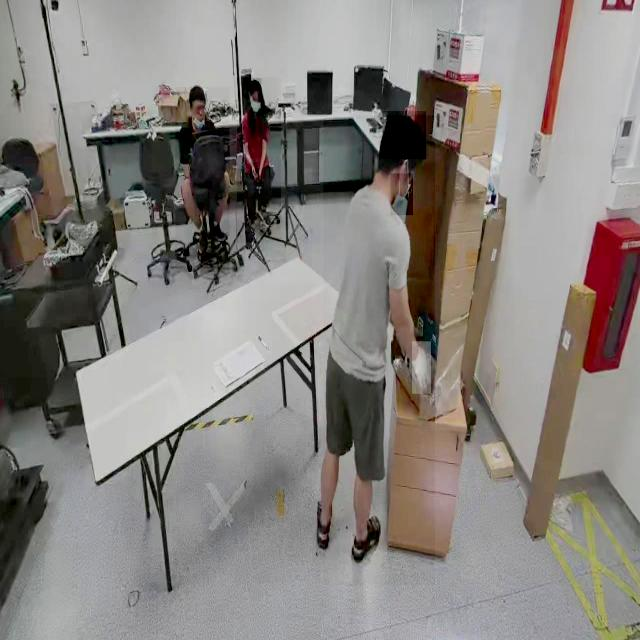face_mask: (391, 173, 413, 215), (247, 92, 265, 111)
hand_glove: (412, 341, 432, 395)
hand_noglove: (250, 162, 258, 178), (257, 168, 261, 181)
head_nohelmet: (379, 111, 427, 160), (189, 84, 205, 100), (247, 78, 262, 92)
person: (324, 115, 436, 586), (176, 87, 230, 273), (237, 78, 281, 244)
